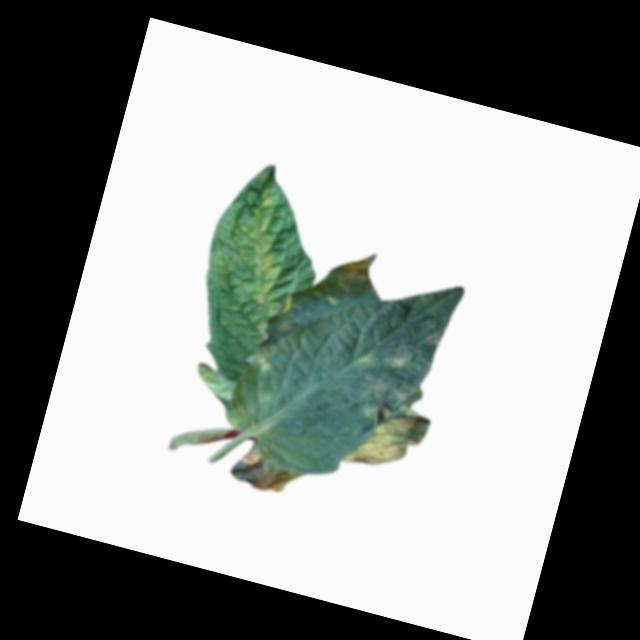Leaf_Mold: (337, 369, 440, 482), (221, 175, 299, 308), (228, 438, 303, 499), (316, 241, 381, 300)
